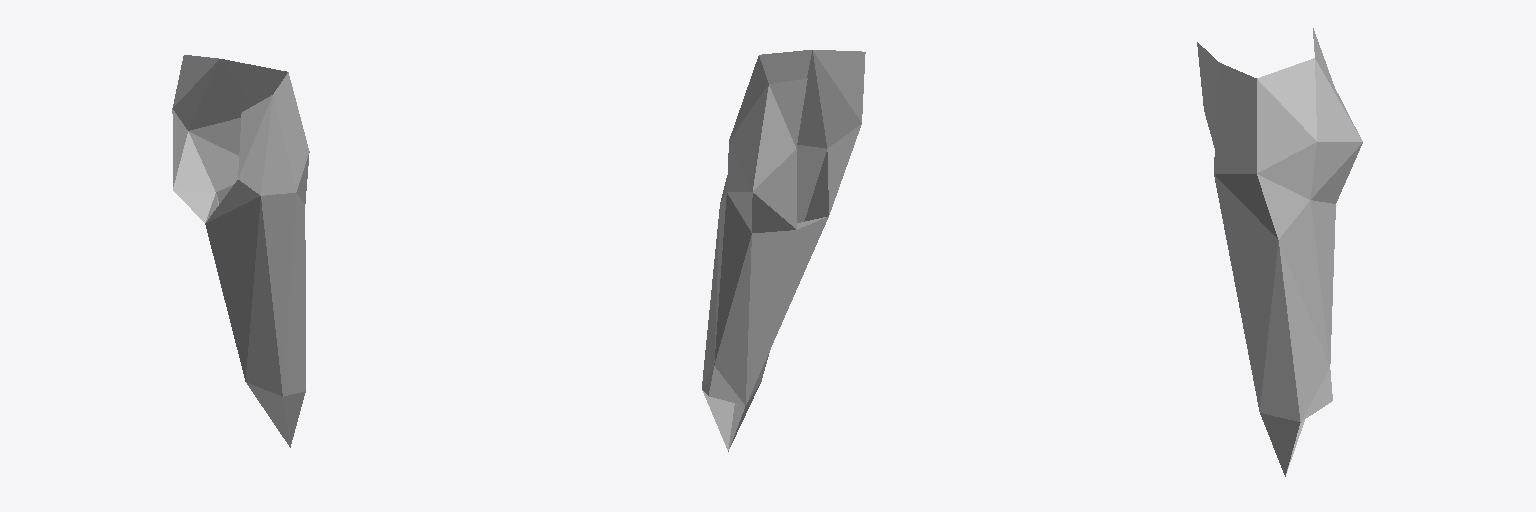
The model's file is 02-left_leg.obj.
3 renders of one model, left to right at view 1: azimuth 30°, elevation 25°; view 2: azimuth 150°, elevation 25°; view 3: azimuth 270°, elevation 25°, orthographic.
Visible parts, largest first — view 1: Man.006_Body.006; view 2: Man.006_Body.006; view 3: Man.006_Body.006.
Part boxes in pixels (x1,y1,x2,y2): Man.006_Body.006: (172, 55, 309, 447); Man.006_Body.006: (702, 50, 865, 451); Man.006_Body.006: (1197, 28, 1362, 476).
Size of the model in its own units: 0.7426 by 2.57 by 0.9546.